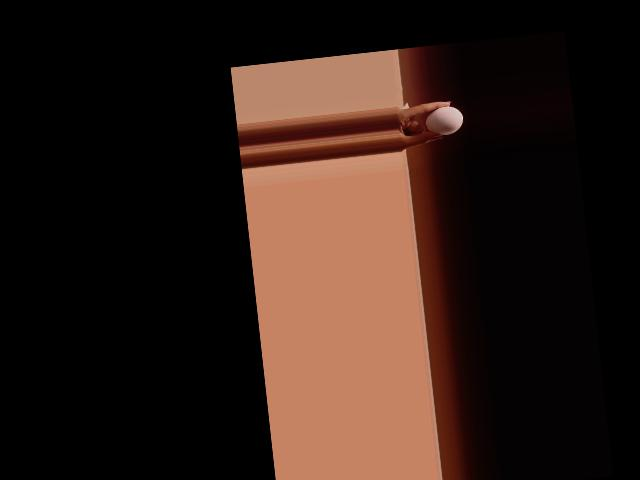egg: (424, 104, 464, 137)
